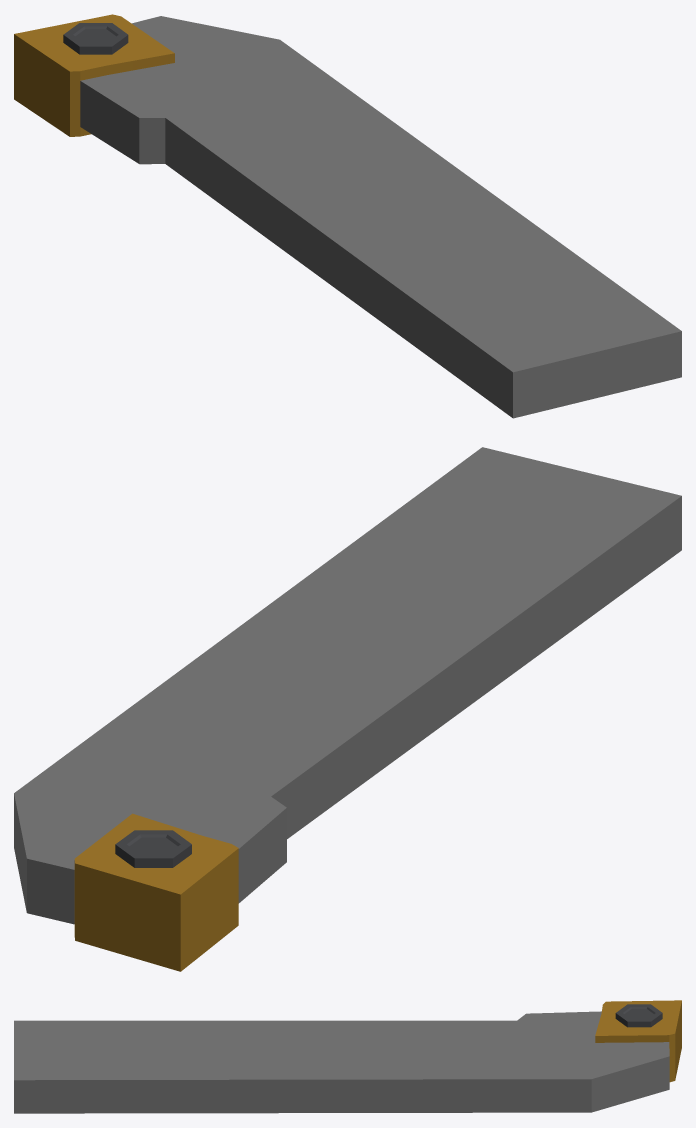
The model's file is MCutter2.fbx.
3 views of the same model, one above another, from view 1: azimuth 30°, elevation 25°; view 2: azimuth 150°, elevation 25°; view 3: azimuth 270°, elevation 25° (orthographic). The views are drawn at different scales.
Visible parts, largest first — view 1: Cutter2; view 2: Cutter2; view 3: Cutter2.
Boxes of the visible parts, left/top/right/bottom form: Cutter2: left=14, top=14, right=681, bottom=418; Cutter2: left=14, top=447, right=681, bottom=971; Cutter2: left=14, top=1000, right=681, bottom=1113.
Size of the model in its own units: 51.36 by 19.4 by 199.
